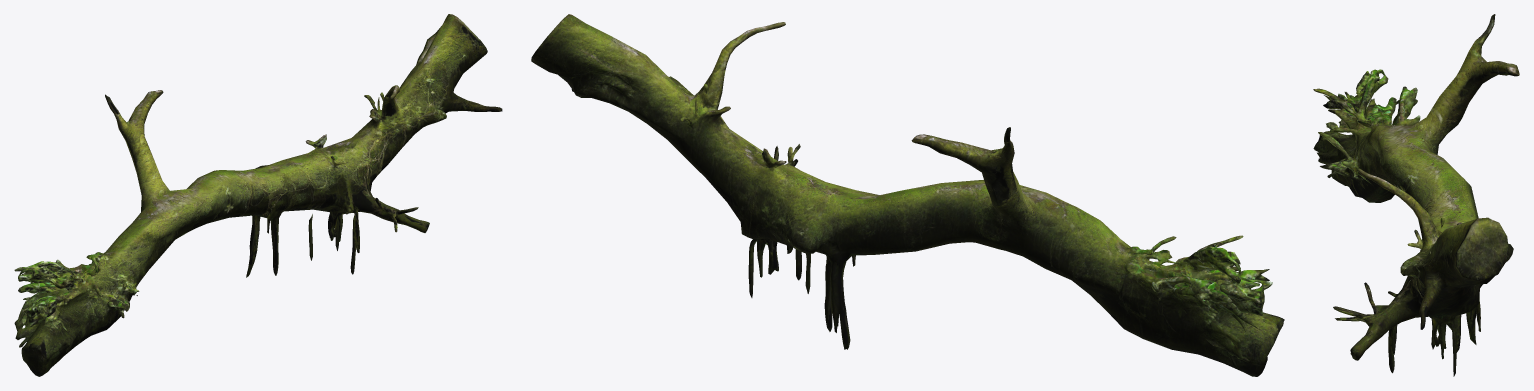
3 views of the same model, side by side, from view 1: azimuth 30°, elevation 25°; view 2: azimuth 150°, elevation 25°; view 3: azimuth 270°, elevation 25° (orthographic). The views are drawn at different scales.
Bounding box in the file's own units: 1.99 × 0.7753 × 0.5754.
Materials: 1 (1 with a texture image).
